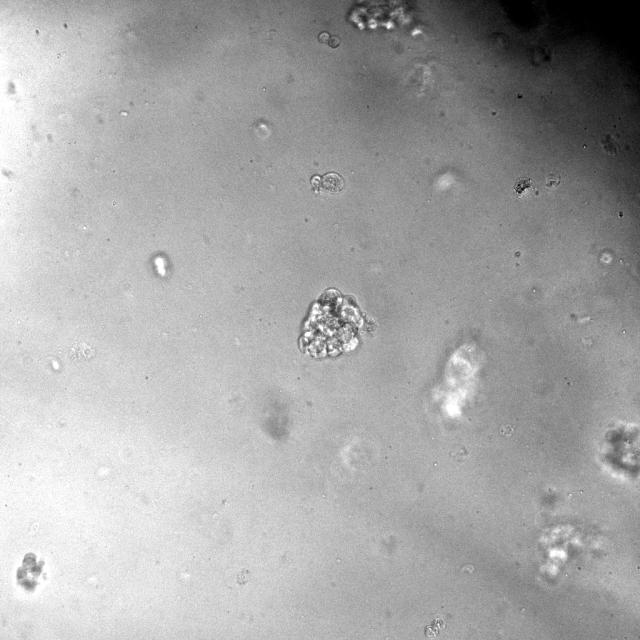organoid: (298, 288, 377, 359), (432, 342, 483, 419), (538, 522, 601, 584), (348, 0, 424, 37), (599, 421, 639, 481), (16, 552, 46, 593), (310, 171, 345, 197), (318, 31, 340, 48)
